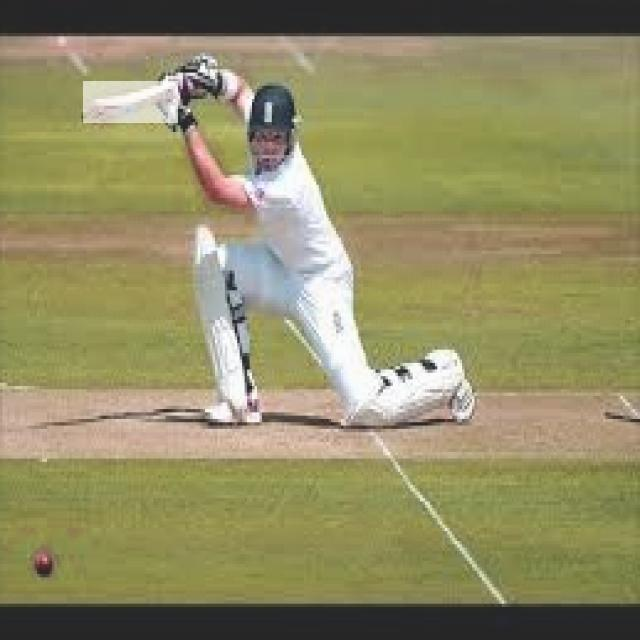bat: (81, 79, 179, 125)
toe: (92, 103, 112, 117)
